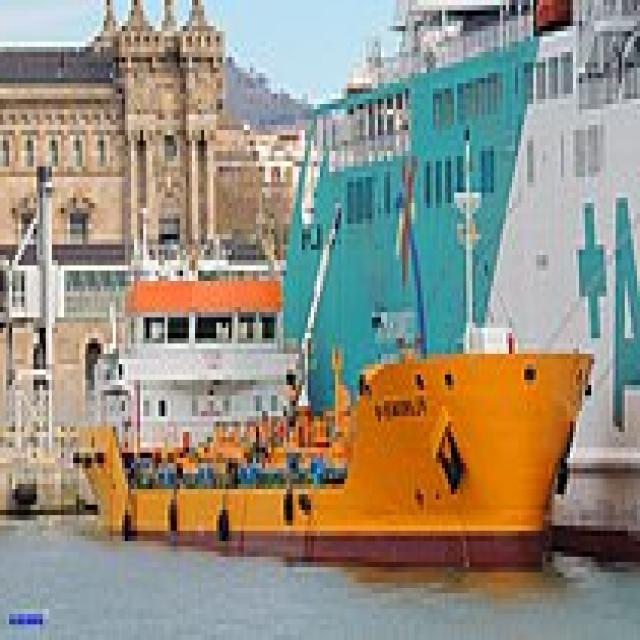Tanker: (74, 120, 600, 567)
